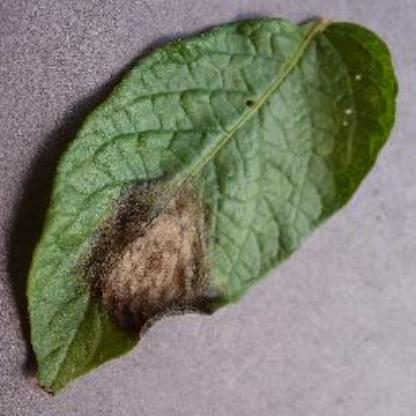Late-Blight: (20, 5, 398, 381)
